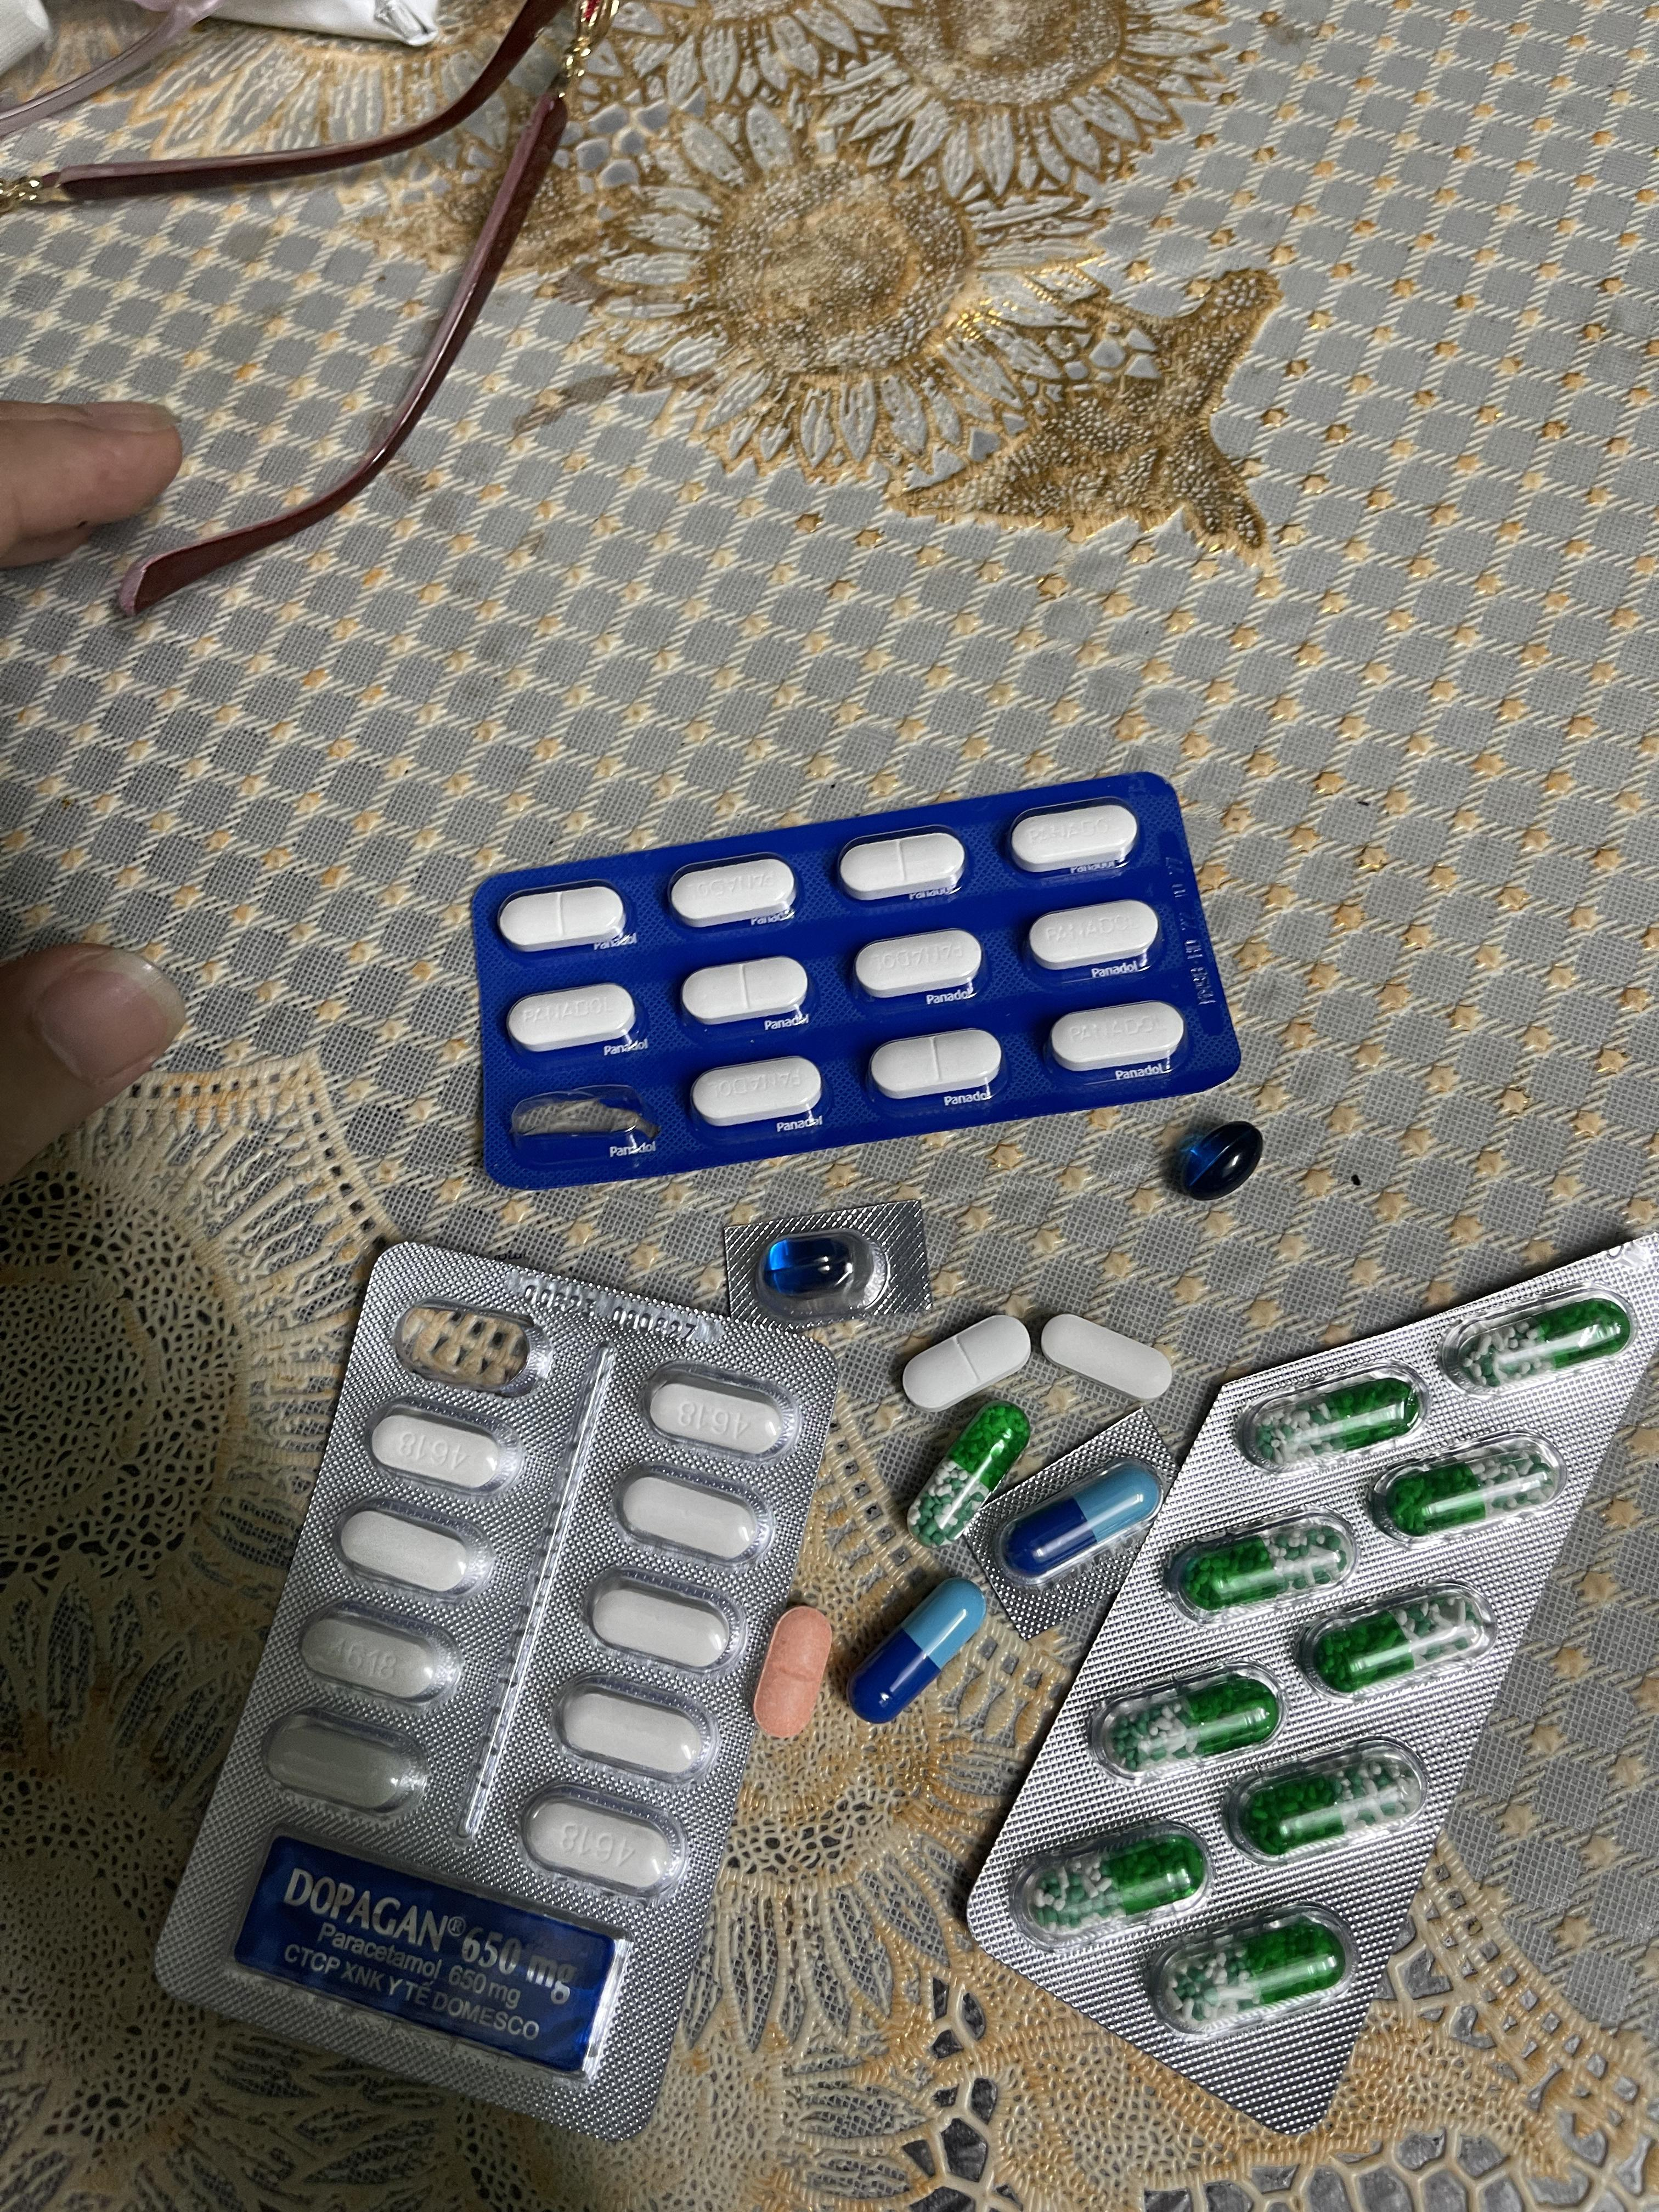Lincomyxin_500mg: (1180, 1120, 1263, 1197), (765, 1233, 857, 1294)
Loratadine_10mg: (753, 1602, 830, 1737)
Paracetamol_350mg: (903, 1313, 1030, 1409), (1049, 1001, 1187, 1073), (870, 1028, 1004, 1101), (1028, 899, 1161, 972), (667, 855, 798, 928), (1009, 801, 1140, 874), (694, 1055, 826, 1127), (836, 829, 967, 900), (854, 927, 983, 998), (509, 982, 636, 1054), (681, 956, 809, 1026), (498, 883, 624, 953)
Paracetamol_500mg: (518, 1791, 683, 1902), (263, 1710, 432, 1818), (551, 1676, 713, 1782), (300, 1604, 460, 1703), (335, 1508, 483, 1597), (619, 1475, 765, 1564), (591, 1580, 735, 1667), (369, 1414, 514, 1498), (1040, 1313, 1171, 1404), (650, 1381, 789, 1454)
Paracetamol_650mg: (1150, 1905, 1352, 2036), (1011, 1822, 1199, 1947), (1229, 1745, 1424, 1865), (1295, 1587, 1490, 1700), (1096, 1669, 1279, 1782), (1438, 1287, 1633, 1390), (1168, 1508, 1349, 1618), (1375, 1442, 1563, 1543), (906, 1402, 1033, 1548), (1244, 1372, 1422, 1472)
pill: (995, 1456, 1161, 1592), (847, 1575, 988, 1724)
